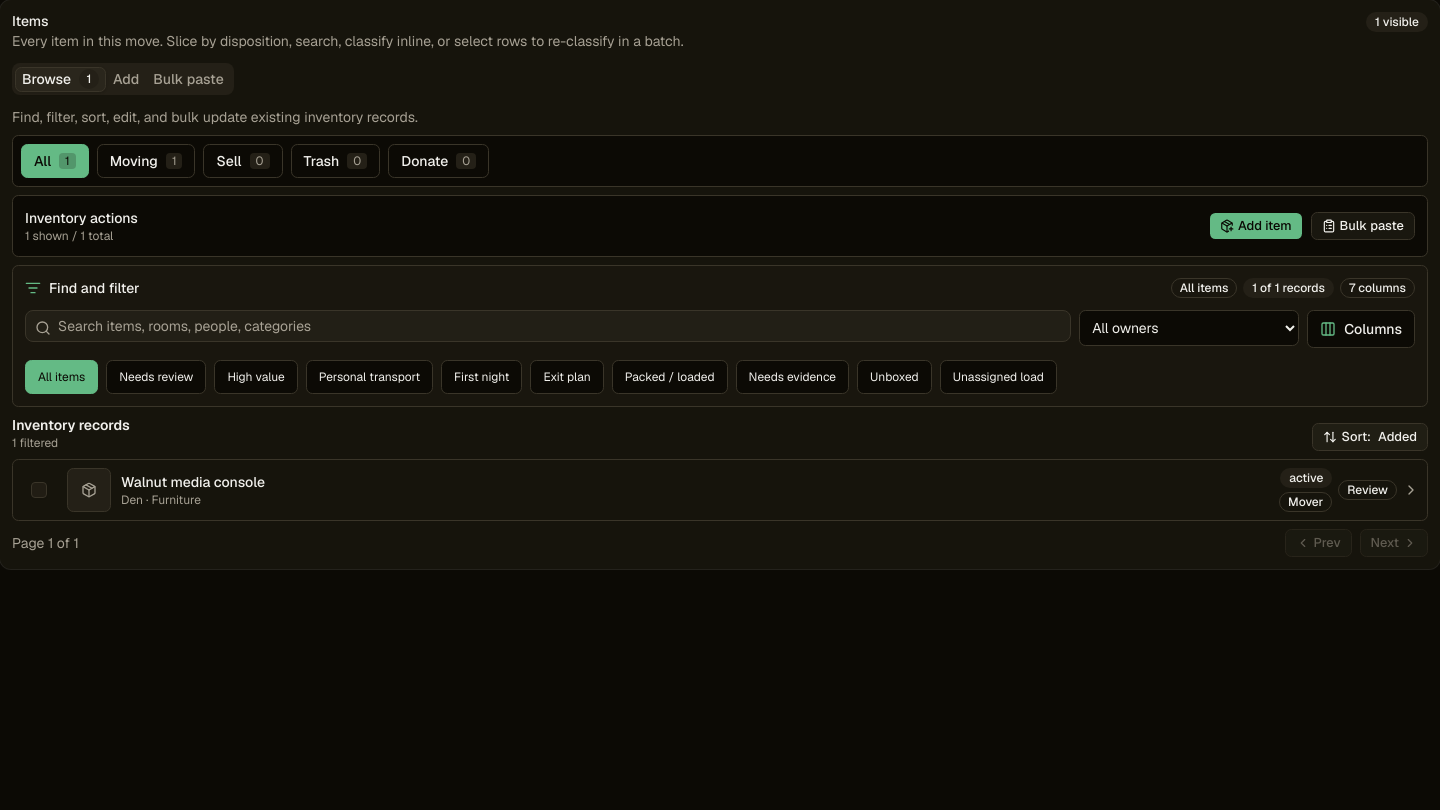
Test case: InventoryTable › uses browse action shortcuts to switch into intake workflows
The width and height of the screenshot is (1440, 810).
Click the button "Add item". click: (1256, 226)
box: top-left (1209, 212), bottom-right (1302, 240)
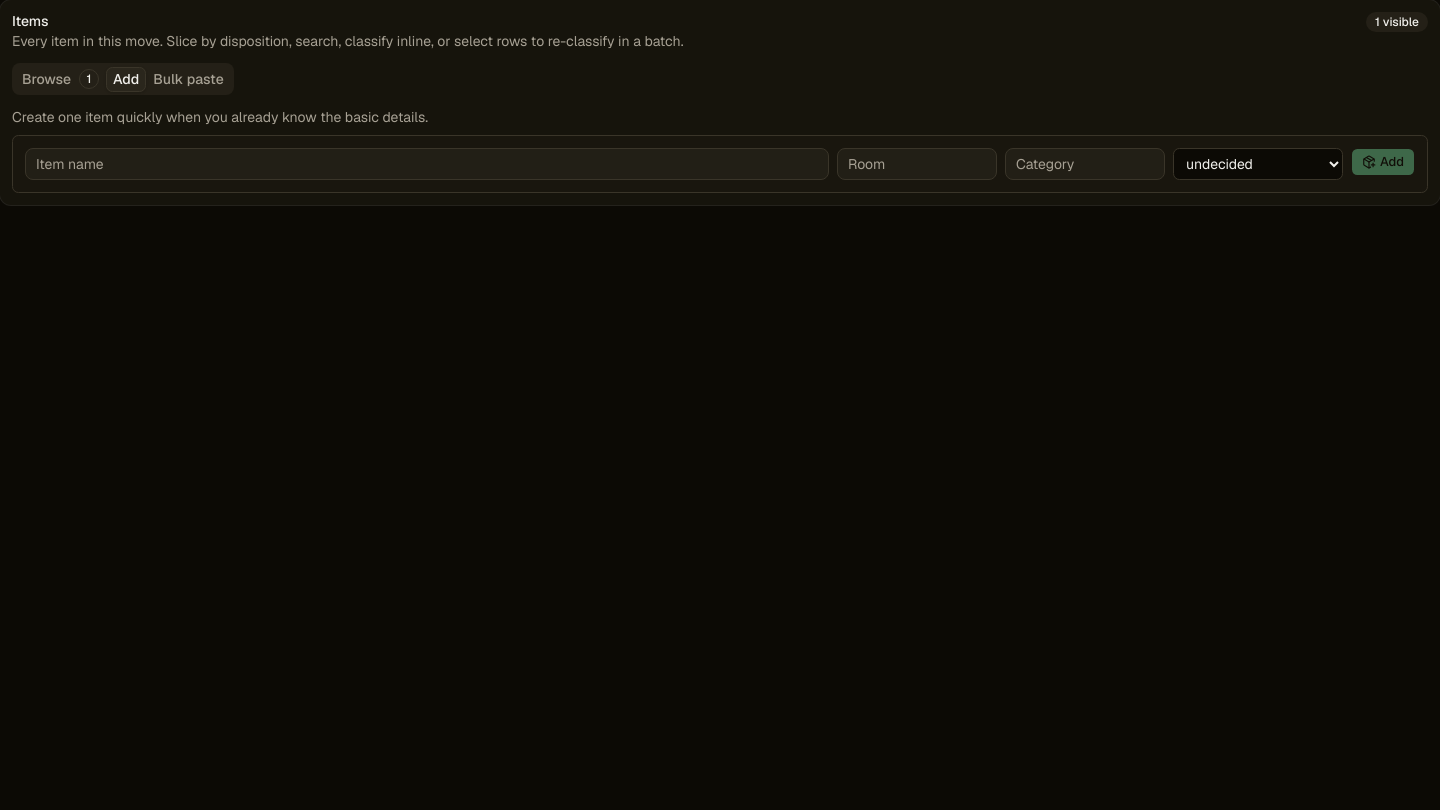
Expected: the field named "New item name" is shown, top-left (25, 148), bottom-right (829, 180)
Click the tab with aria-label "Browse: 1 record". click: (60, 79)
box: top-left (15, 67), bottom-right (106, 92)
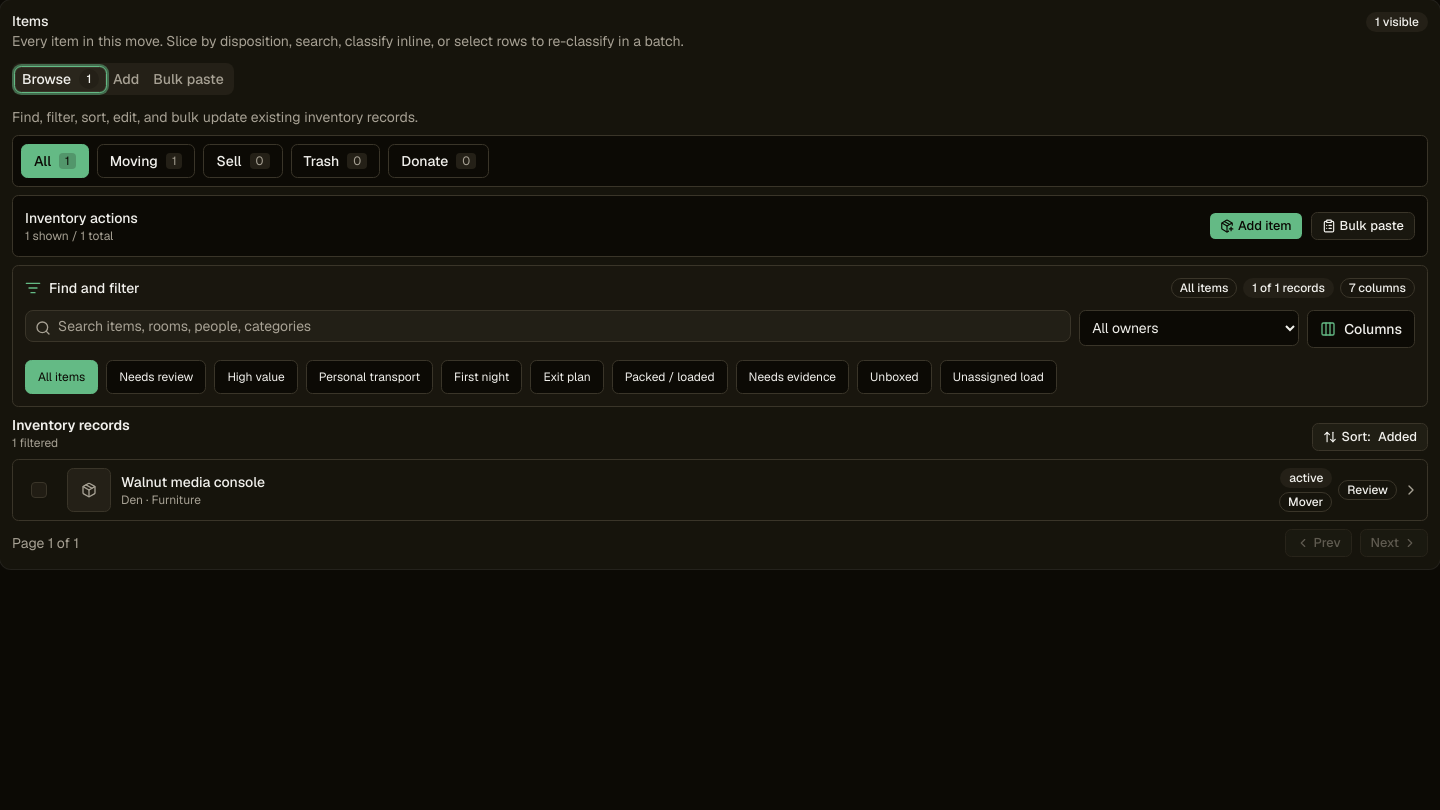
Click the button "Bulk paste". click: (1363, 226)
box: top-left (1311, 212), bottom-right (1415, 240)
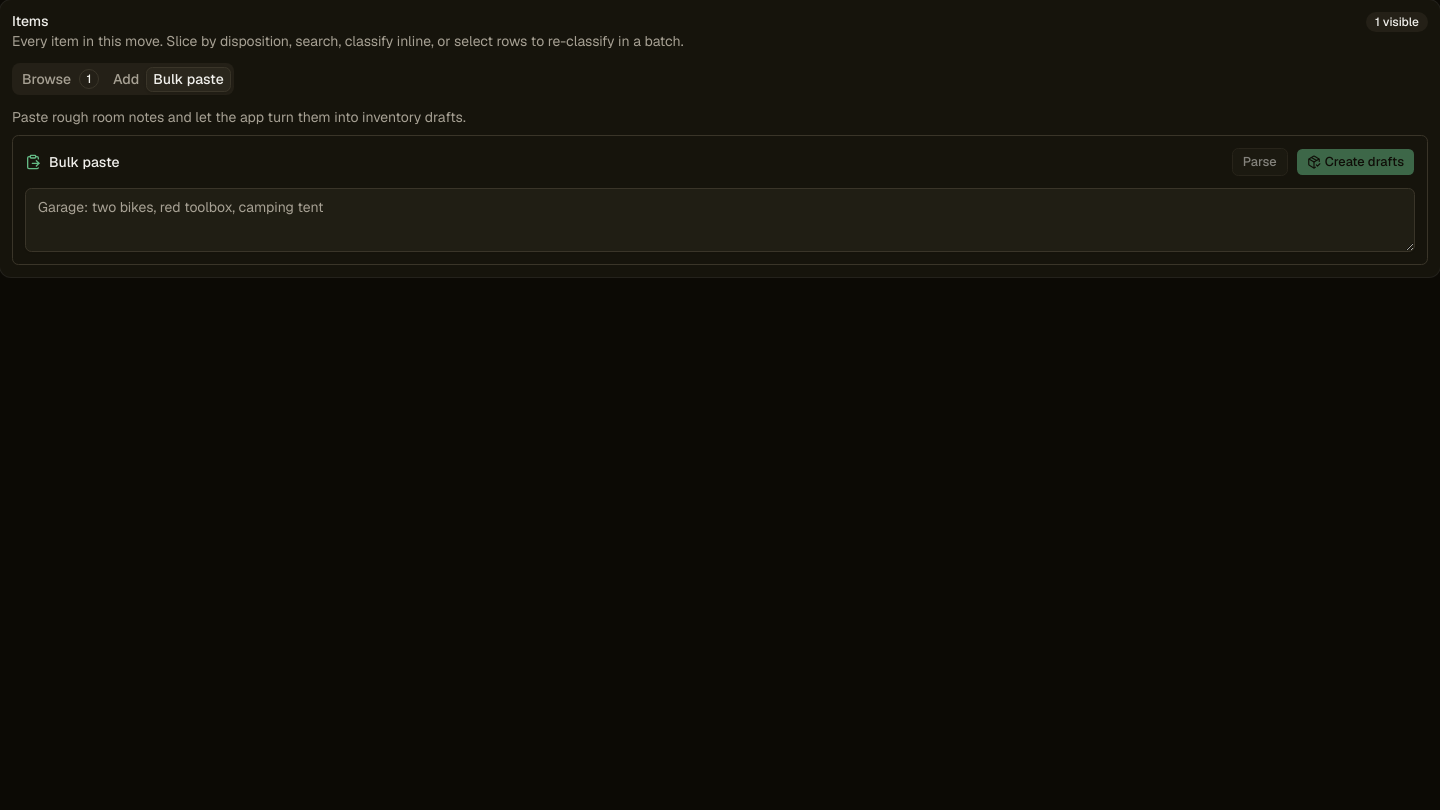
Expected: the text box with placeholder "Garage: two bikes, red toolbox, camping tent" is shown, top-left (25, 188), bottom-right (1415, 252)
